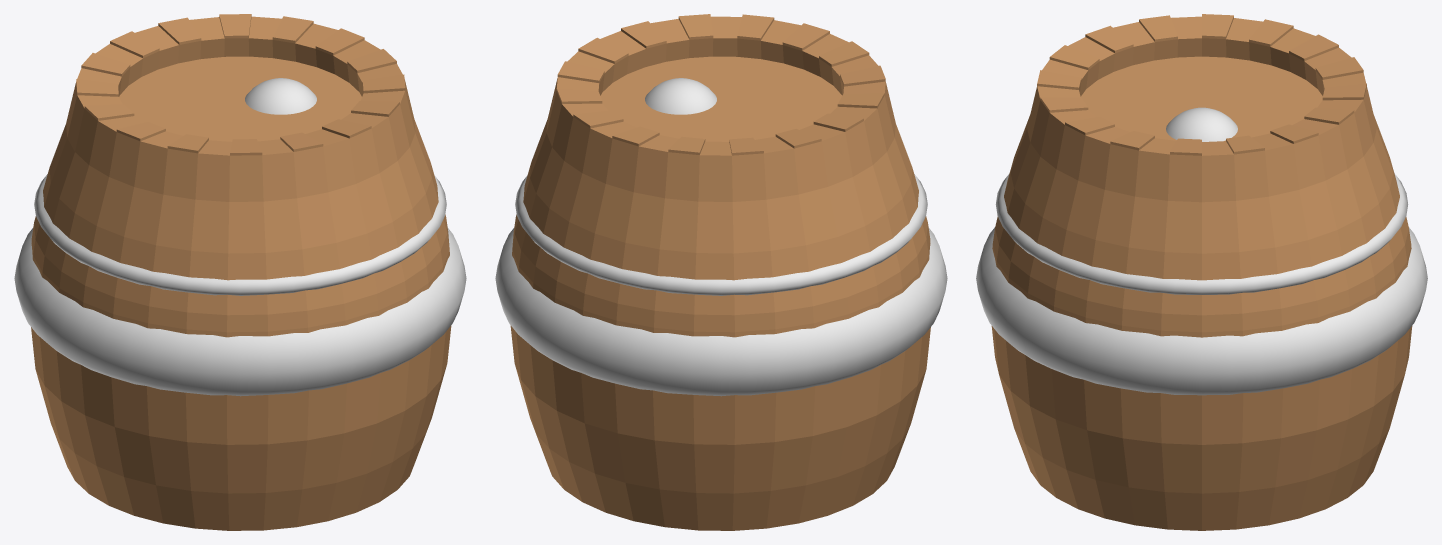
File: Fass.fbx
The picture shows the model from 3 angles, left to right: view 1: azimuth 30°, elevation 25°; view 2: azimuth 150°, elevation 25°; view 3: azimuth 270°, elevation 25°; orthographic projection.
Visible parts, largest first — view 1: Fass; view 2: Fass; view 3: Fass.
Boxes of the visible parts, x1,y1,x2,y2 form: Fass: (14,14,466,530); Fass: (495,14,947,530); Fass: (976,14,1427,530).
Size of the model in its own units: 49.81 by 45.42 by 49.81.
